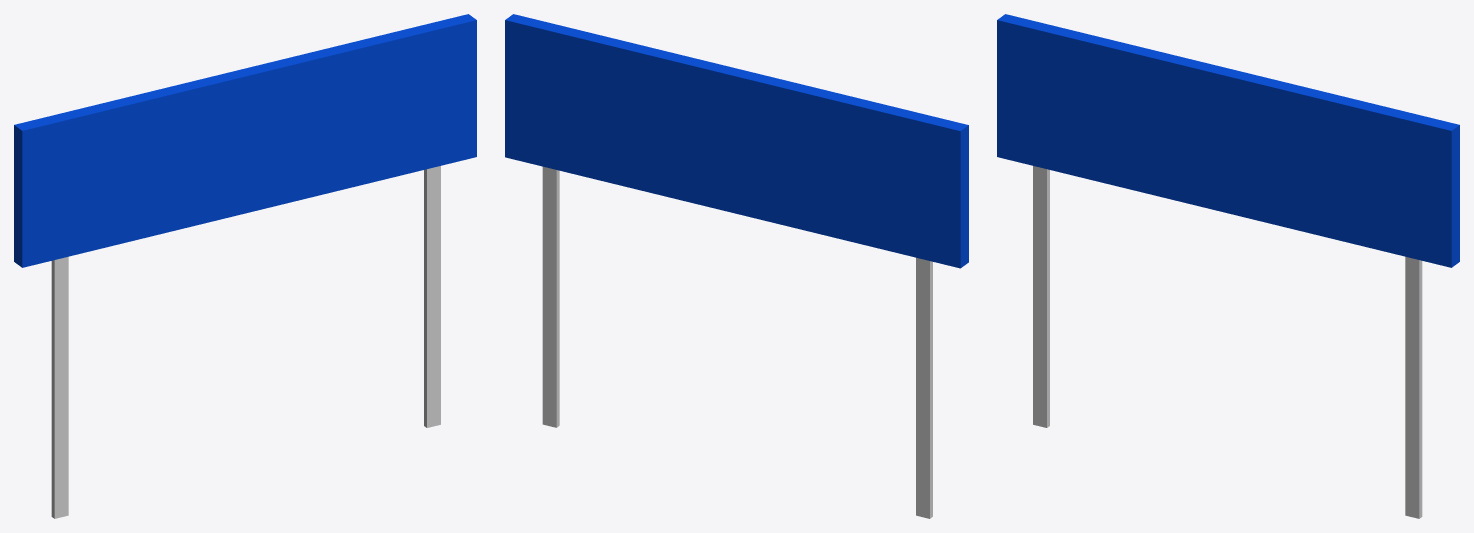
File: tabela.fbx
3 views of the same model, side by side, from view 1: azimuth 30°, elevation 25°; view 2: azimuth 150°, elevation 25°; view 3: azimuth 330°, elevation 25° (orthographic).
Visible parts, largest first — view 1: tabela; view 2: tabela; view 3: tabela.
Boxes of the visible parts, <box> form: tabela: <box>14,14,476,518</box>; tabela: <box>505,14,968,518</box>; tabela: <box>997,14,1459,518</box>.
Bounding box in the file's own units: 200 × 167 × 6.33.
